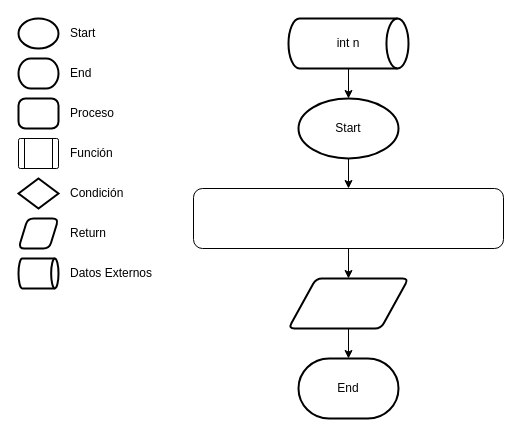
Some shapes in this 521 by 436 pixel diagram are drawn without their labels. Here are the shapes that lost their labels. From the top down, the centre of each, then its label:
point (348, 218): String[] array0_19 = {"zero", "one", "two", ..., "nineteen"}
point (348, 303): array0_19[n]
